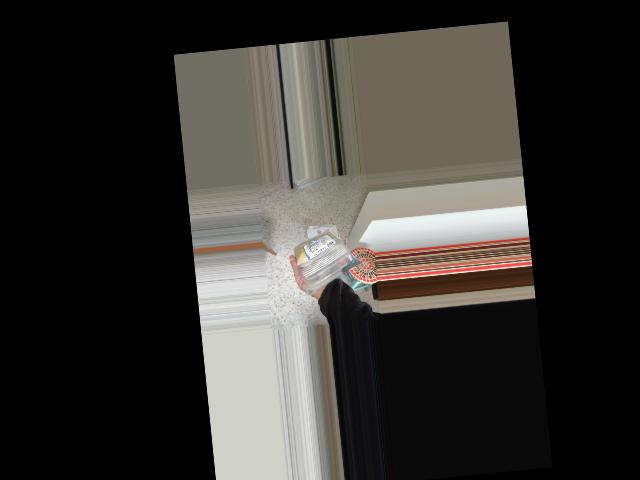cheese: (292, 216, 366, 296)
